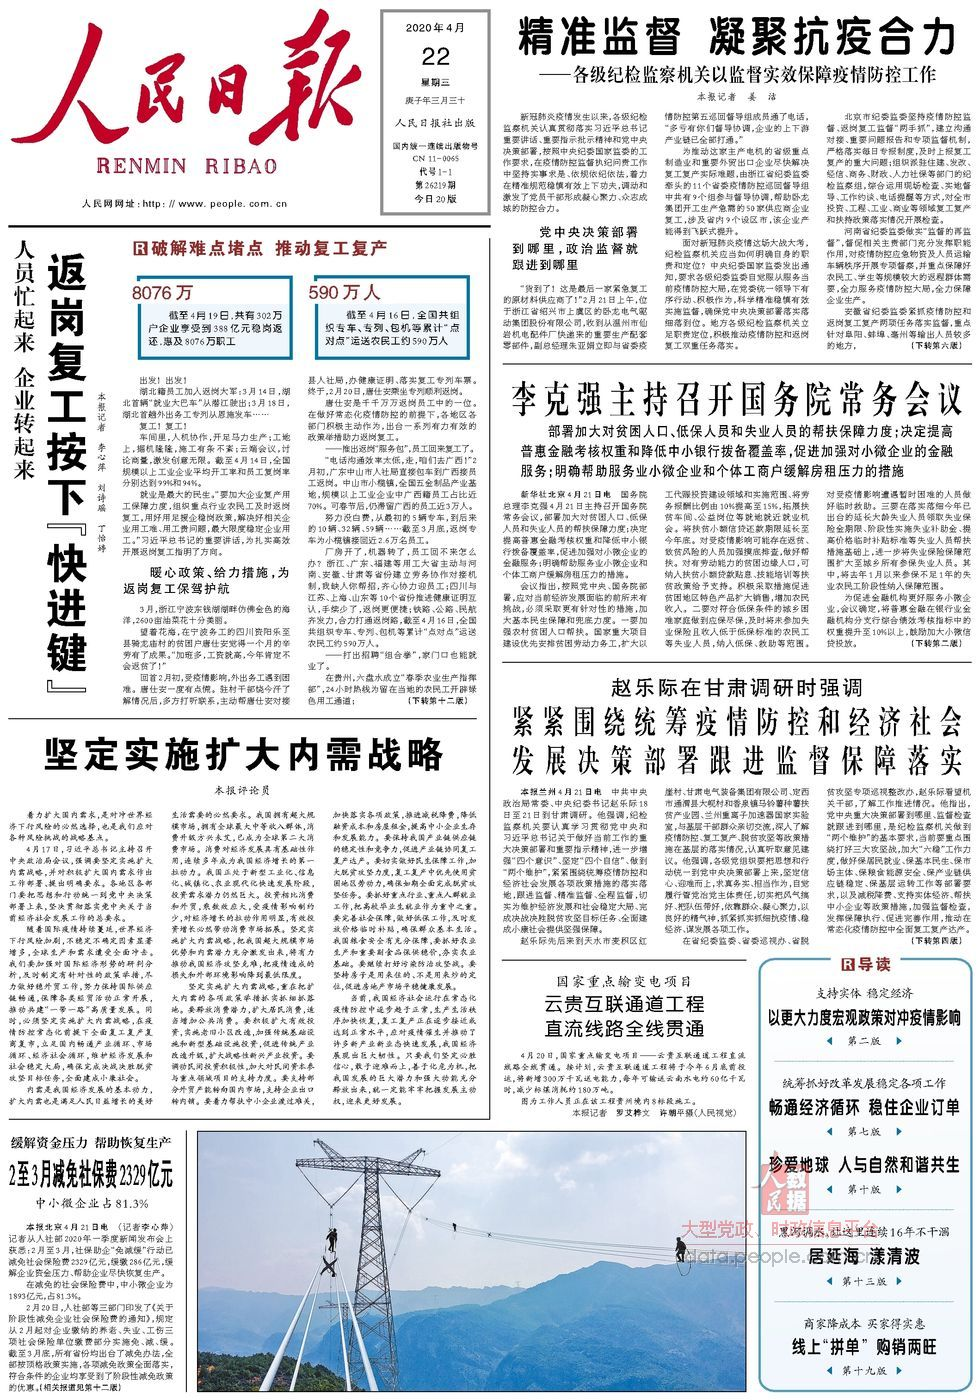pic: (193, 1126, 752, 1397)
